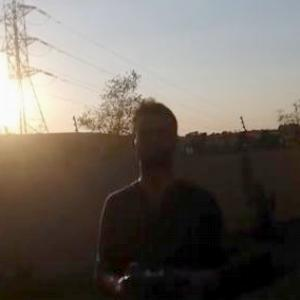follow: (89, 91, 226, 299)
